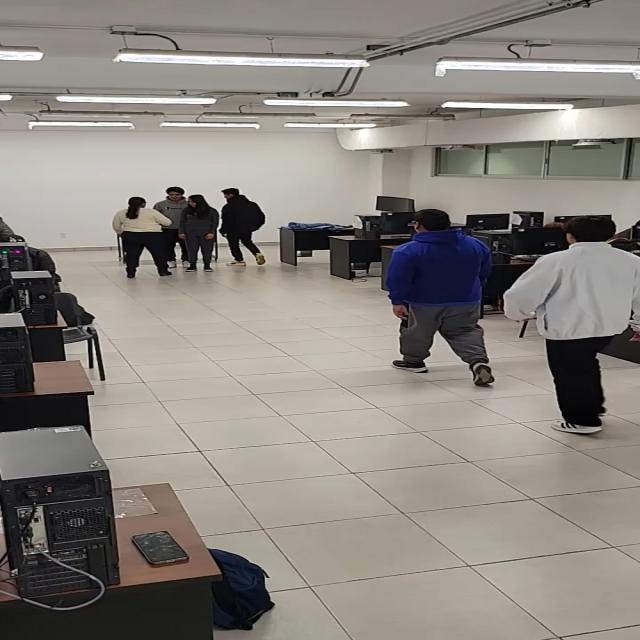Persona: (504, 214, 640, 434), (385, 209, 496, 386), (112, 196, 175, 279), (153, 186, 202, 268), (220, 187, 267, 267), (177, 194, 220, 273)
